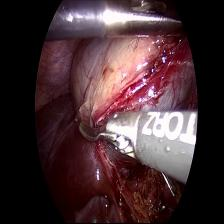Grasper: (96, 0, 186, 44)
Scissors: (77, 105, 145, 158)
